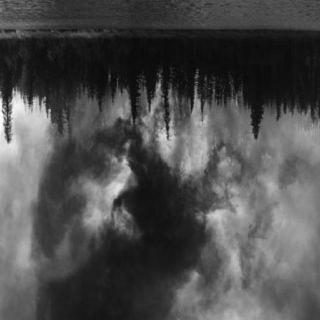Fire: (59, 84, 270, 196)
Smoke: (35, 150, 199, 320), (233, 126, 313, 316)
